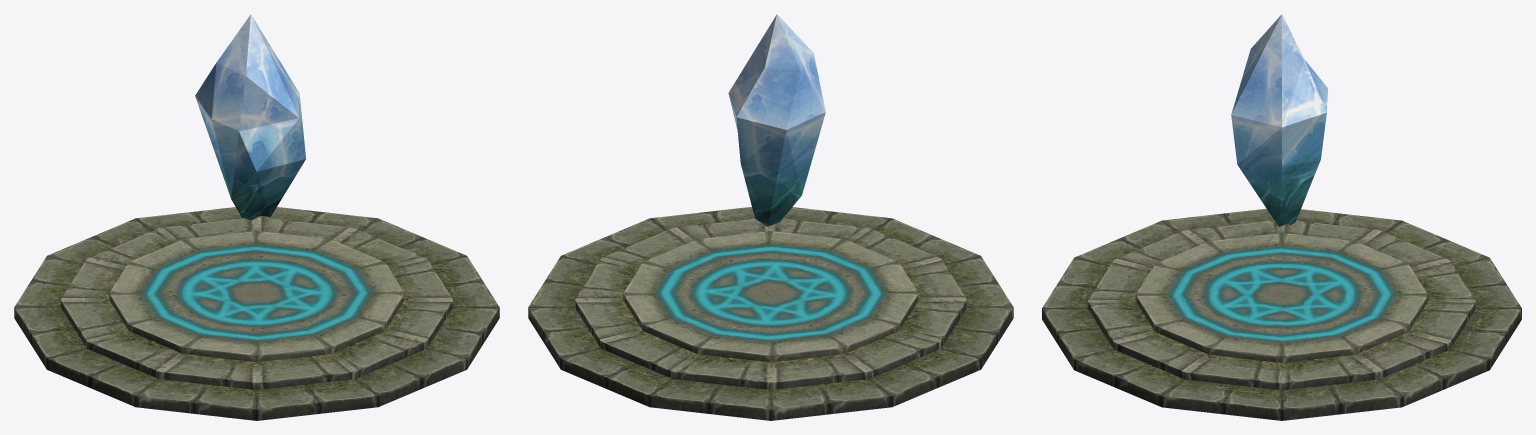
The model's file is SC_yonghengsenlin_41.FBX.
3 renders of one model, left to right at view 1: azimuth 30°, elevation 25°; view 2: azimuth 150°, elevation 25°; view 3: azimuth 270°, elevation 25°, orthographic.
Parts seen in each view (by area): view 1: SC_yonghengsenlin_41; view 2: SC_yonghengsenlin_41; view 3: SC_yonghengsenlin_41.
Part boxes in pixels (bbox=[...]): SC_yonghengsenlin_41: bbox=[14, 14, 499, 420]; SC_yonghengsenlin_41: bbox=[528, 14, 1013, 420]; SC_yonghengsenlin_41: bbox=[1042, 14, 1521, 420].
Size of the model in its own units: 1022 by 711 by 1022.
